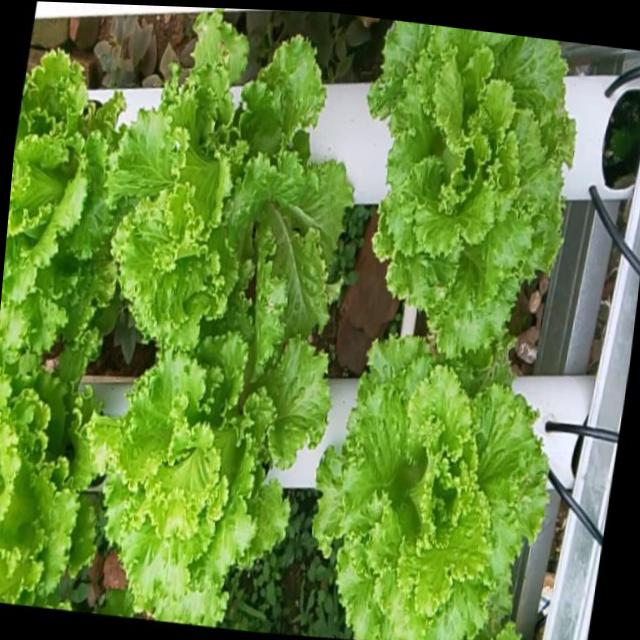Mature: (104, 8, 349, 336), (93, 305, 325, 625), (307, 334, 542, 640), (363, 20, 570, 363), (0, 42, 119, 347), (0, 351, 88, 606)
